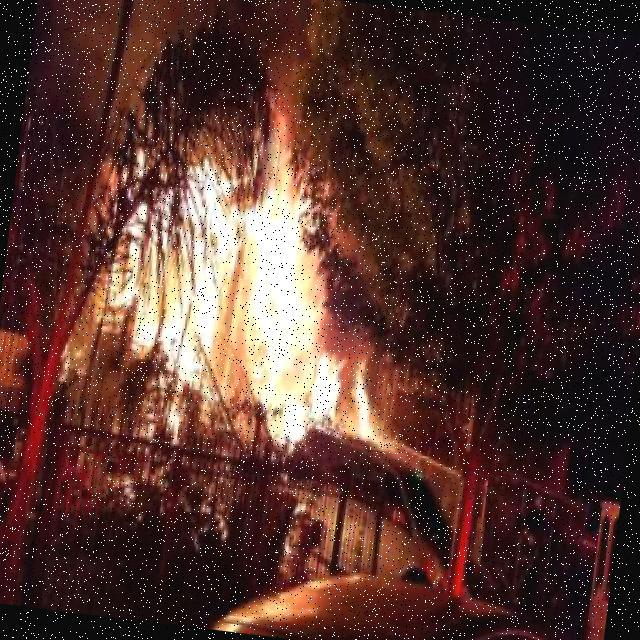Fire: (108, 100, 412, 460)
